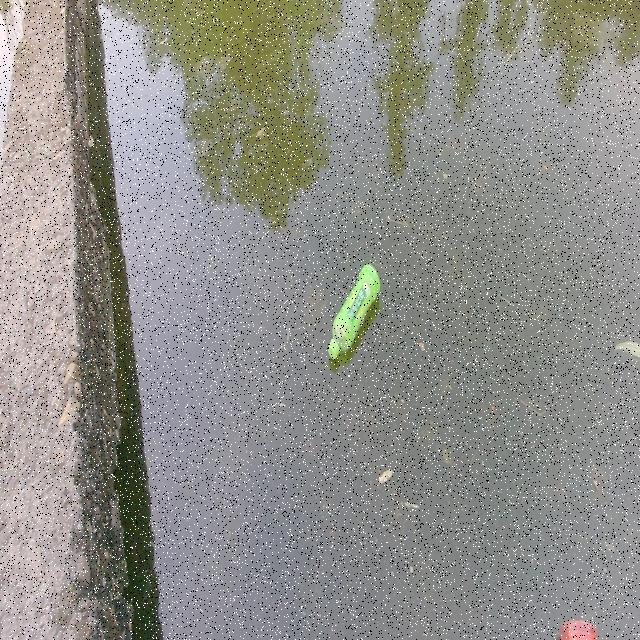Bottle: (322, 259, 382, 362)
